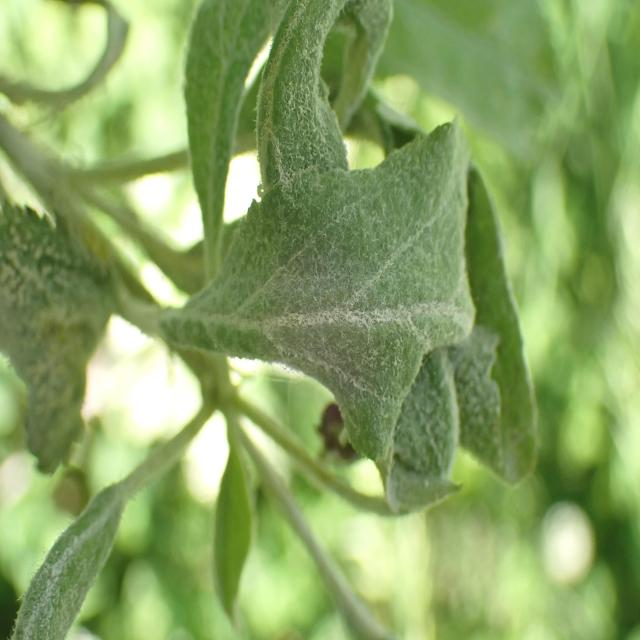Powdery_mildew: (180, 119, 472, 508), (0, 162, 144, 462), (242, 0, 395, 231), (178, 0, 275, 297), (10, 467, 162, 640)
